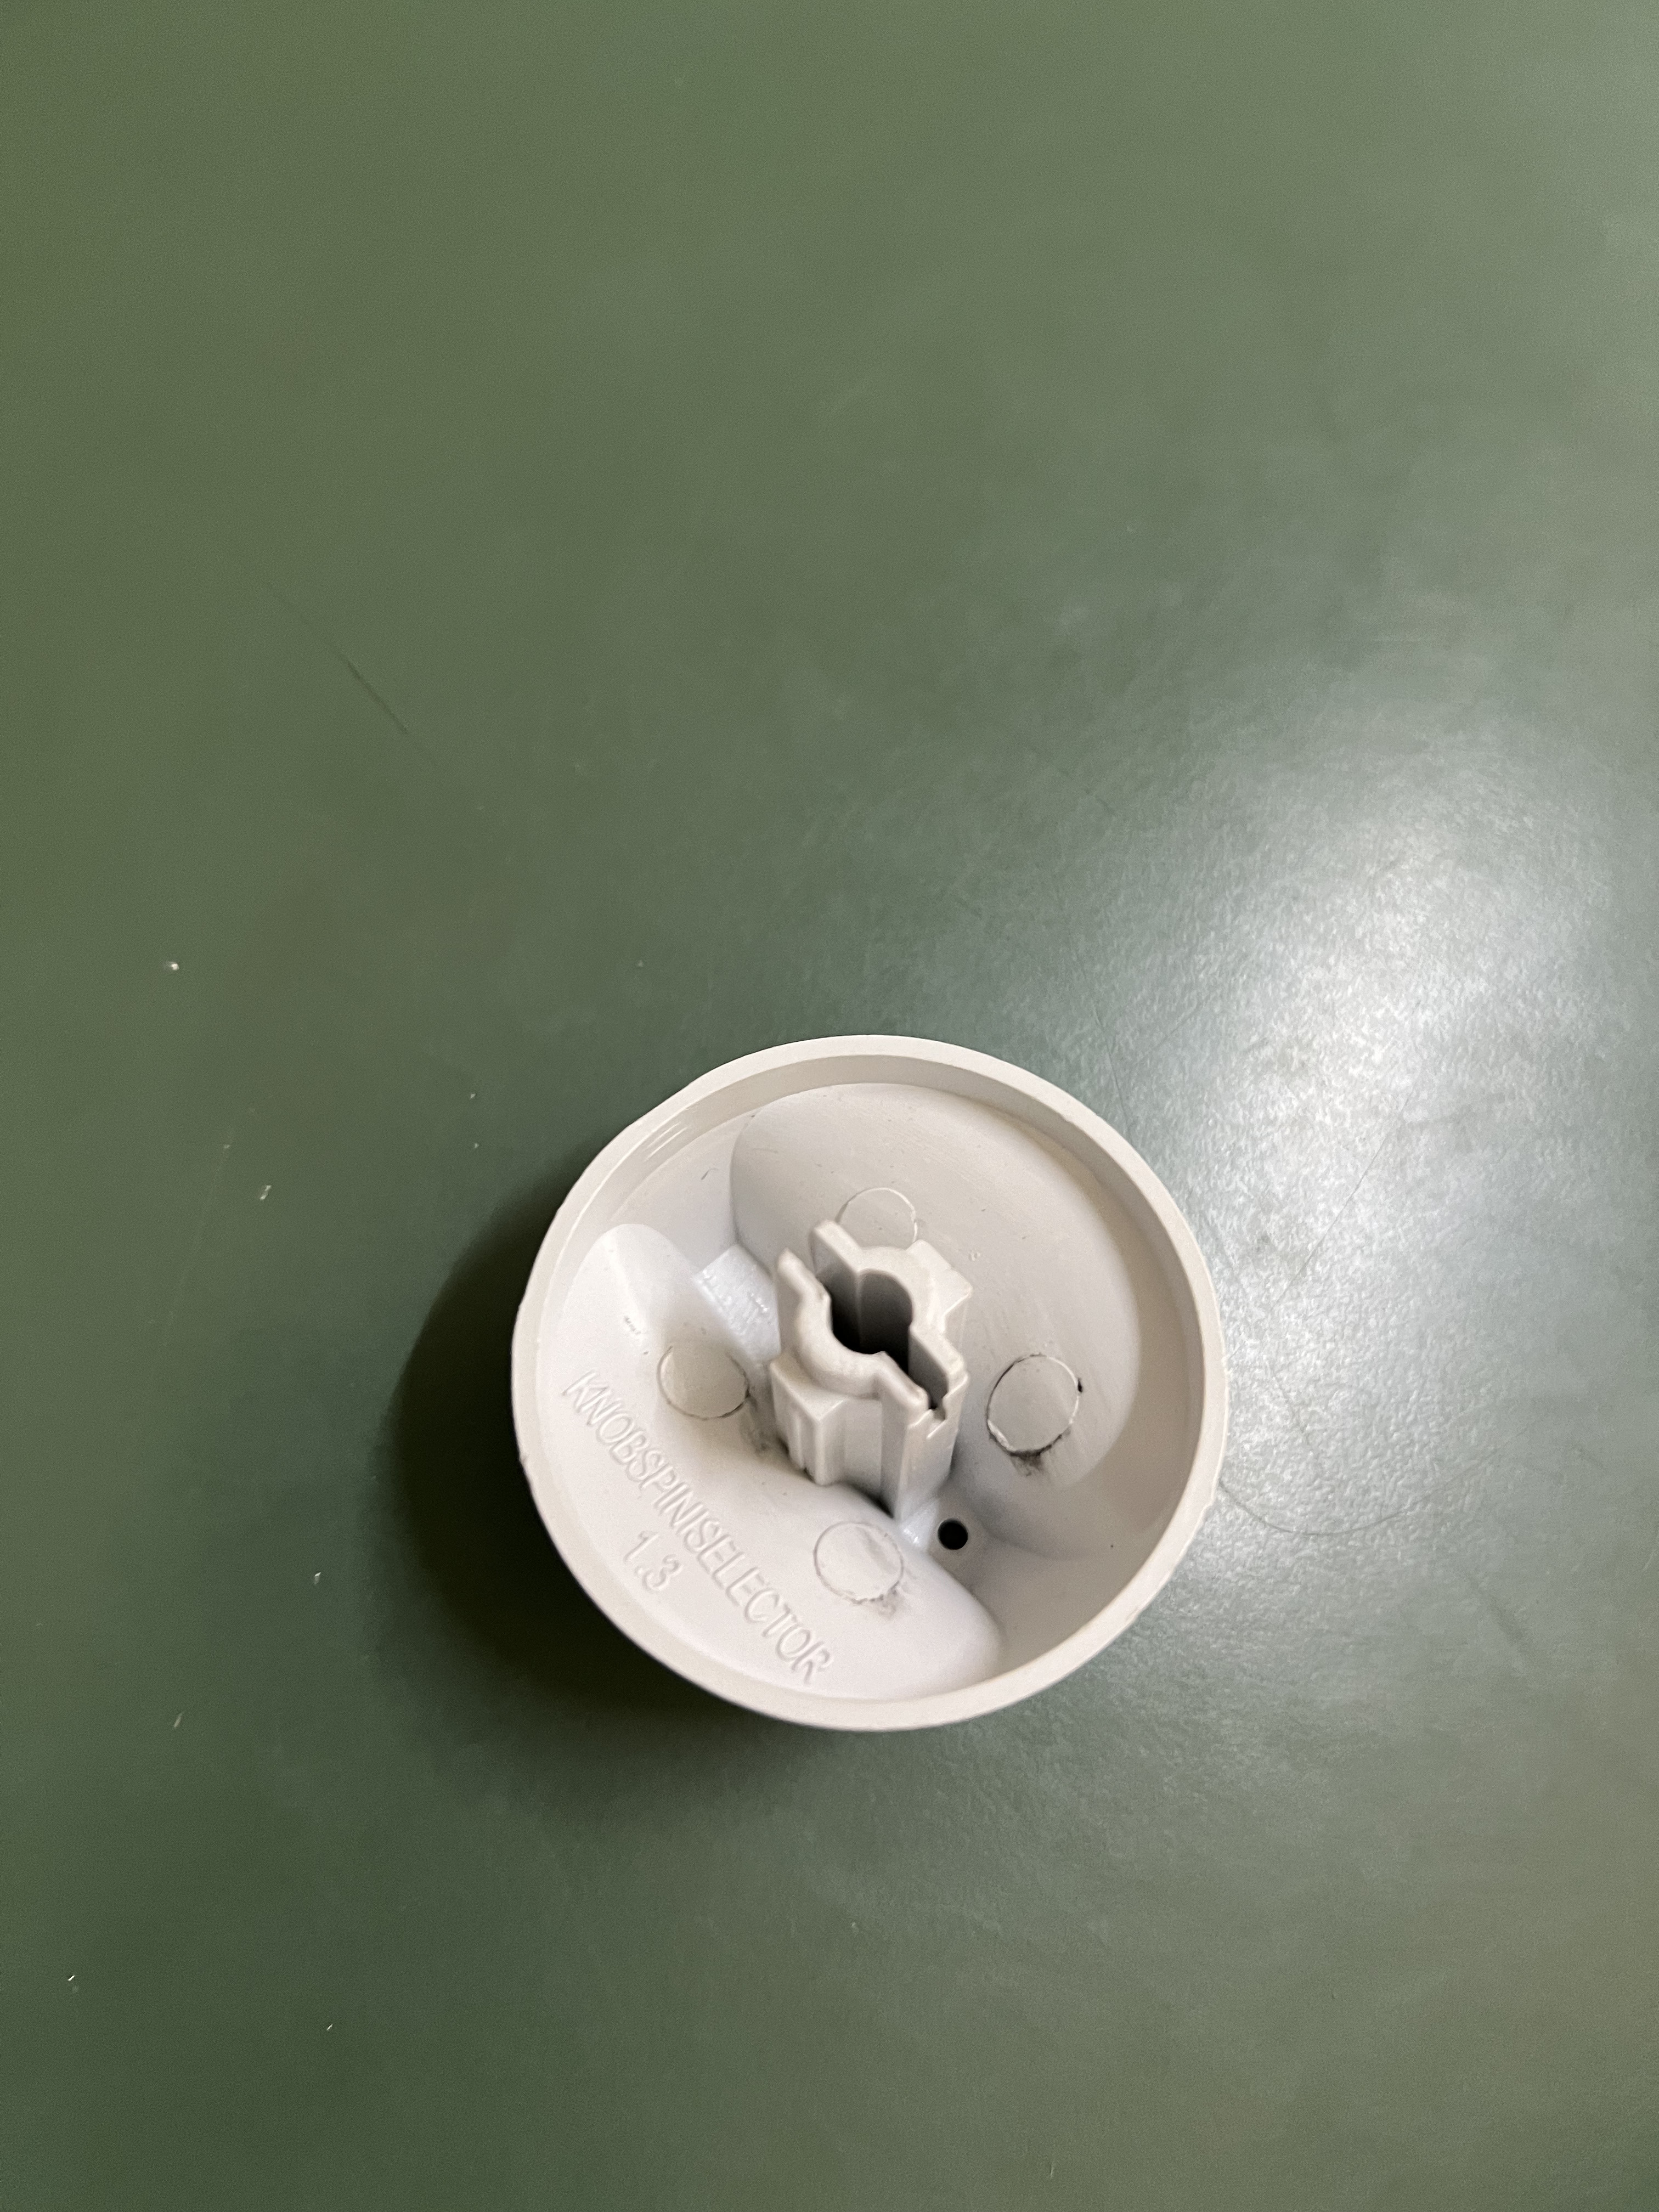regulator: (500, 1033, 1229, 1726)
